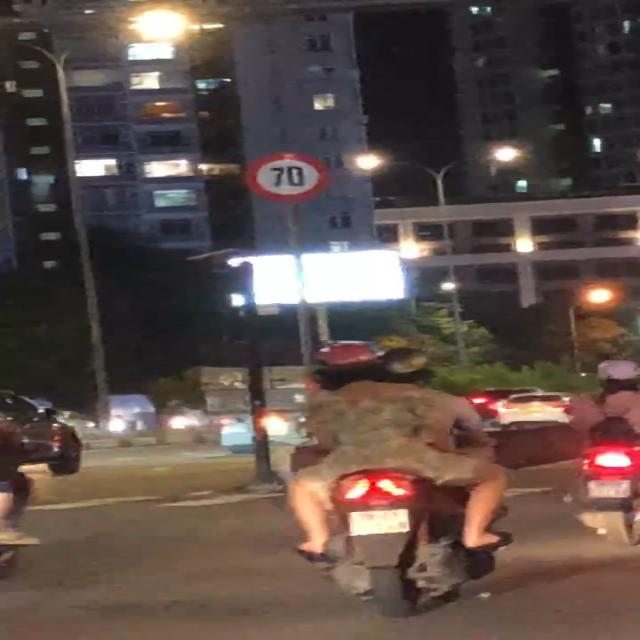Bien bao toc do toi da cho phep: (240, 153, 329, 202)
